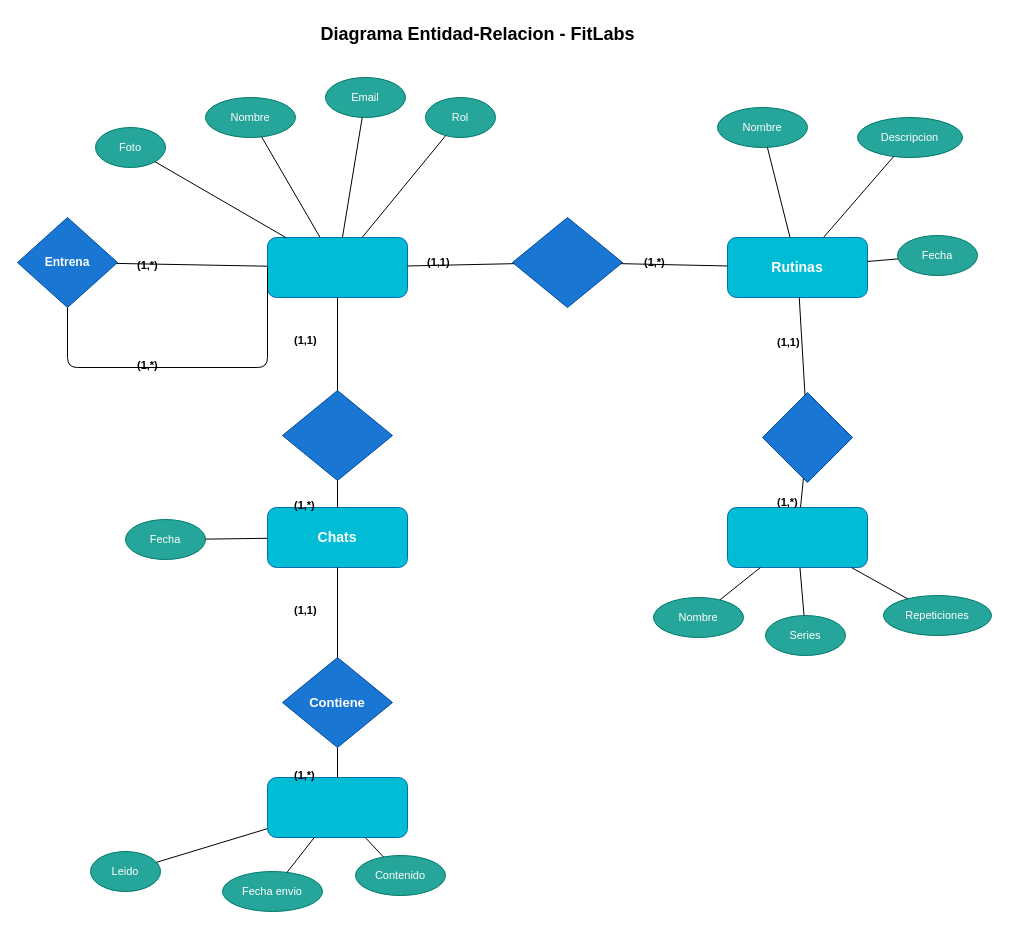
The diagram is 1009 pixels wide and 929 high, and some of its shapes have lost their labels. The shapes that lost their labels are listed below. From the top down, each one's centre as x and y in pixels, then its label:
At point (337, 267): "Perfiles".
At point (567, 262): "Crea".
At point (337, 435): "Accede".
At point (807, 437): "Tiene".
At point (797, 537): "Ejercicios".
At point (337, 807): "Mensajes".
